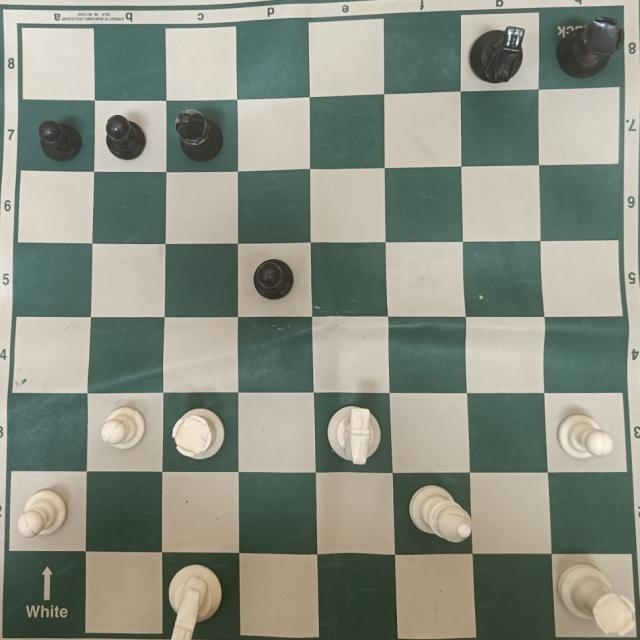black-bishop: (175, 111, 224, 161)
black-knight: (469, 27, 523, 84)
black-pawn: (106, 114, 147, 159), (40, 122, 81, 160), (255, 260, 295, 296)
black-rook: (555, 20, 621, 77)
board: (0, 1, 640, 640)
white-bishop: (410, 482, 470, 542)
white-knight: (168, 562, 224, 640), (328, 406, 382, 464)
white-pawn: (18, 488, 67, 541), (558, 413, 612, 459), (100, 405, 145, 451)
white-rook: (559, 564, 637, 637), (170, 404, 225, 460)
